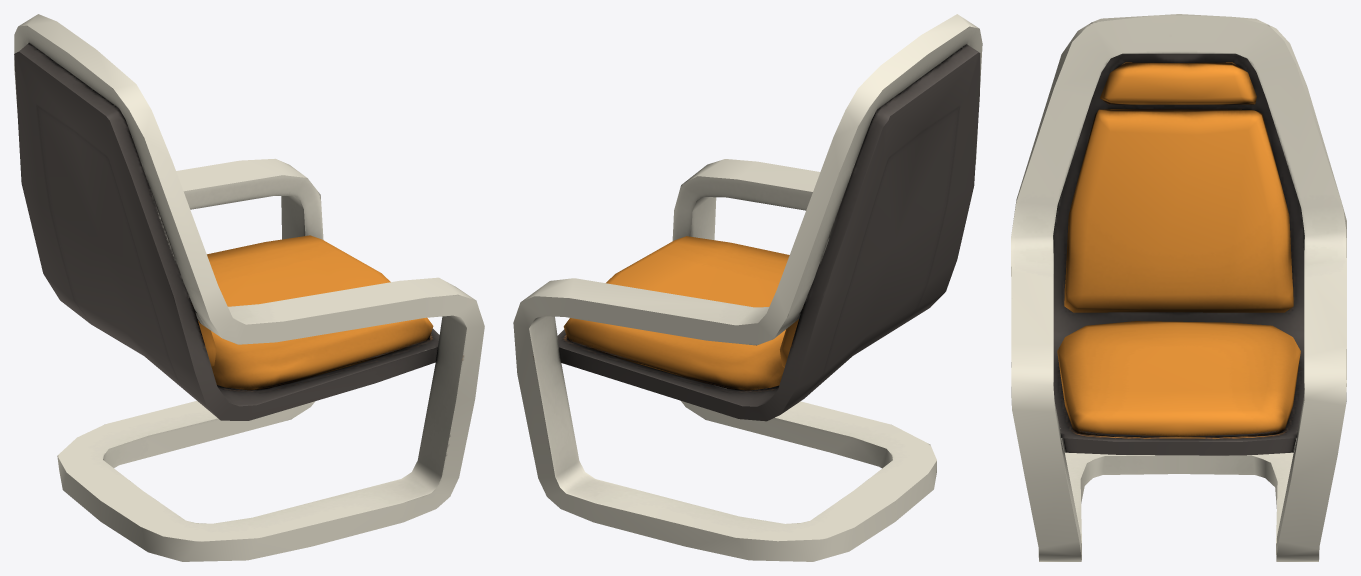
File: SM_Chair.fbx
3 views of the same model, side by side, from view 1: azimuth 30°, elevation 25°; view 2: azimuth 150°, elevation 25°; view 3: azimuth 270°, elevation 25° (orthographic). The views are drawn at different scales.
Parts seen in each view (by area): view 1: SM_Chair; view 2: SM_Chair; view 3: SM_Chair.
Boxes of the visible parts, x1=… form: SM_Chair: x1=14, y1=14, x2=484, y2=561; SM_Chair: x1=513, y1=14, x2=982, y2=561; SM_Chair: x1=1011, y1=14, x2=1346, y2=561.
Size of what is drawn, in the model's own units: 82.3 by 80.96 by 115.
